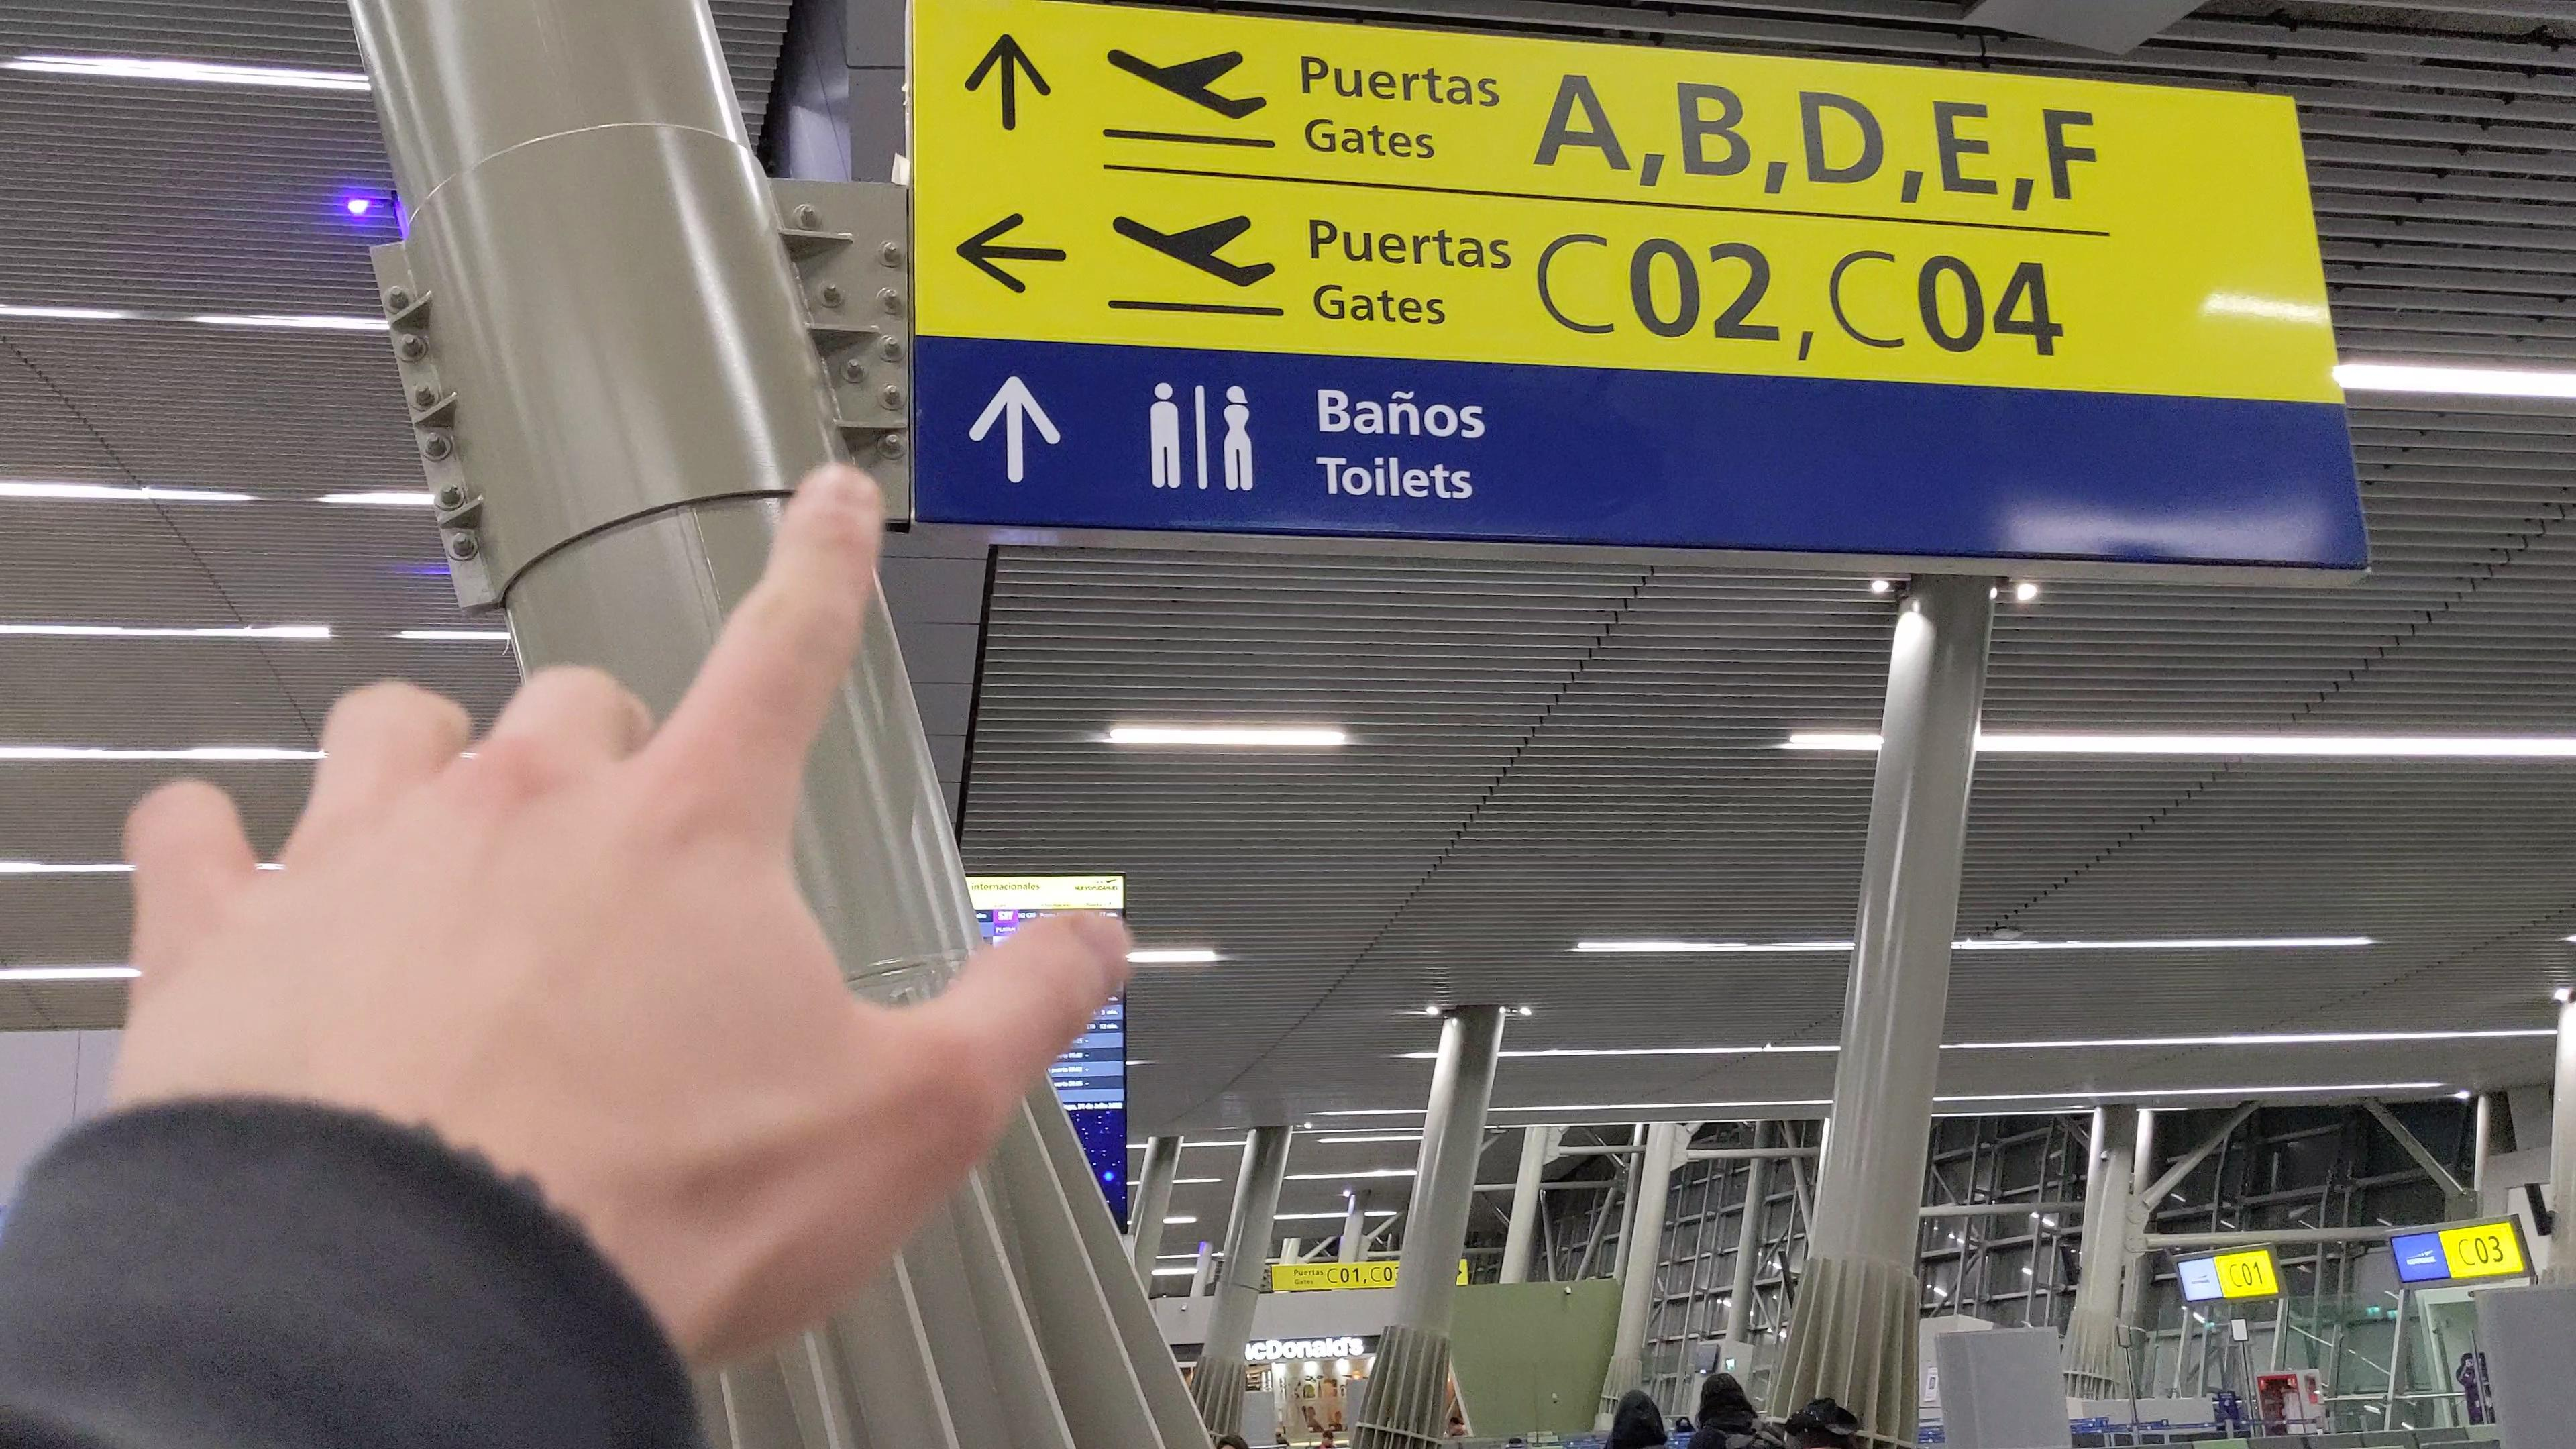airplane symbol: (1108, 205, 1284, 294), (1102, 42, 1277, 127)
bathrooms: (1145, 377, 1258, 495)
thin left arrow: (954, 209, 1070, 295)
thin up arrow: (964, 370, 1065, 490), (961, 30, 1054, 134)
